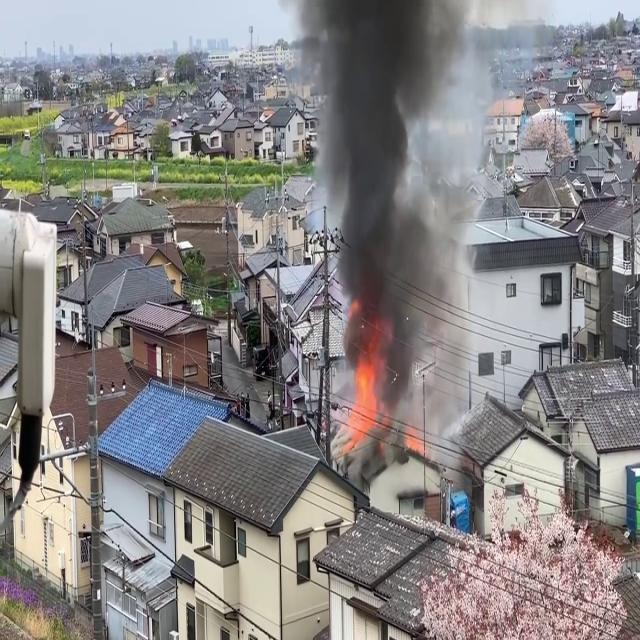Fire: (338, 342, 386, 452)
Smoke: (311, 0, 504, 422)
